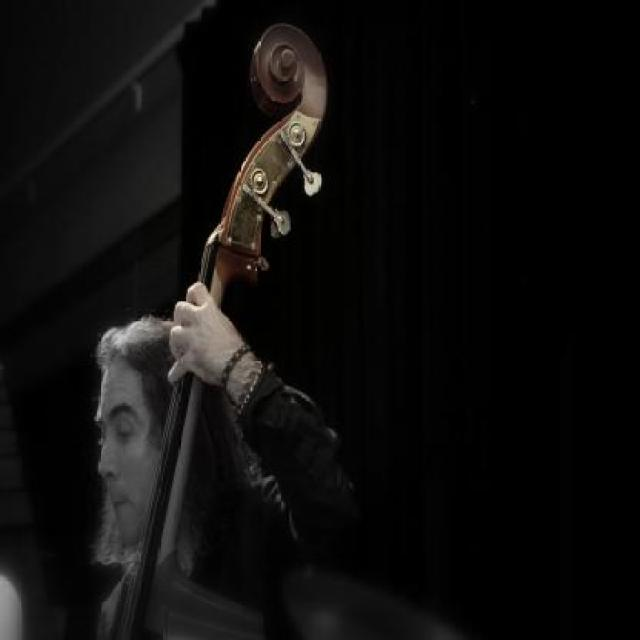obstacle: (93, 283, 352, 640)
